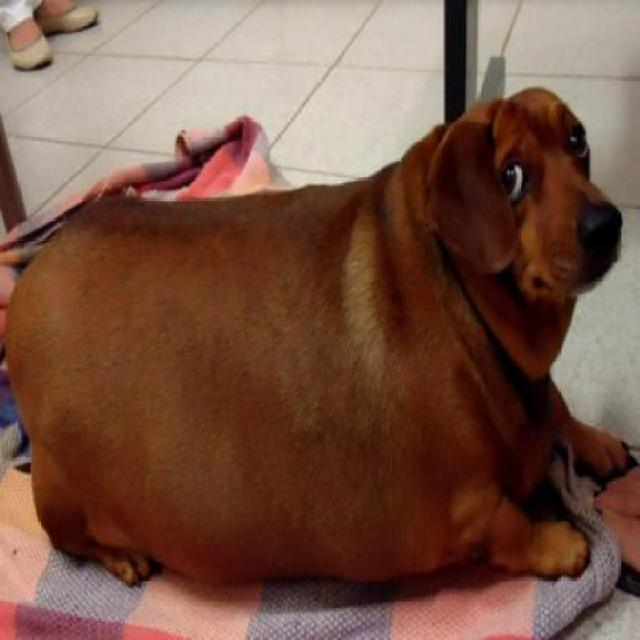Dog: (8, 82, 637, 588)
